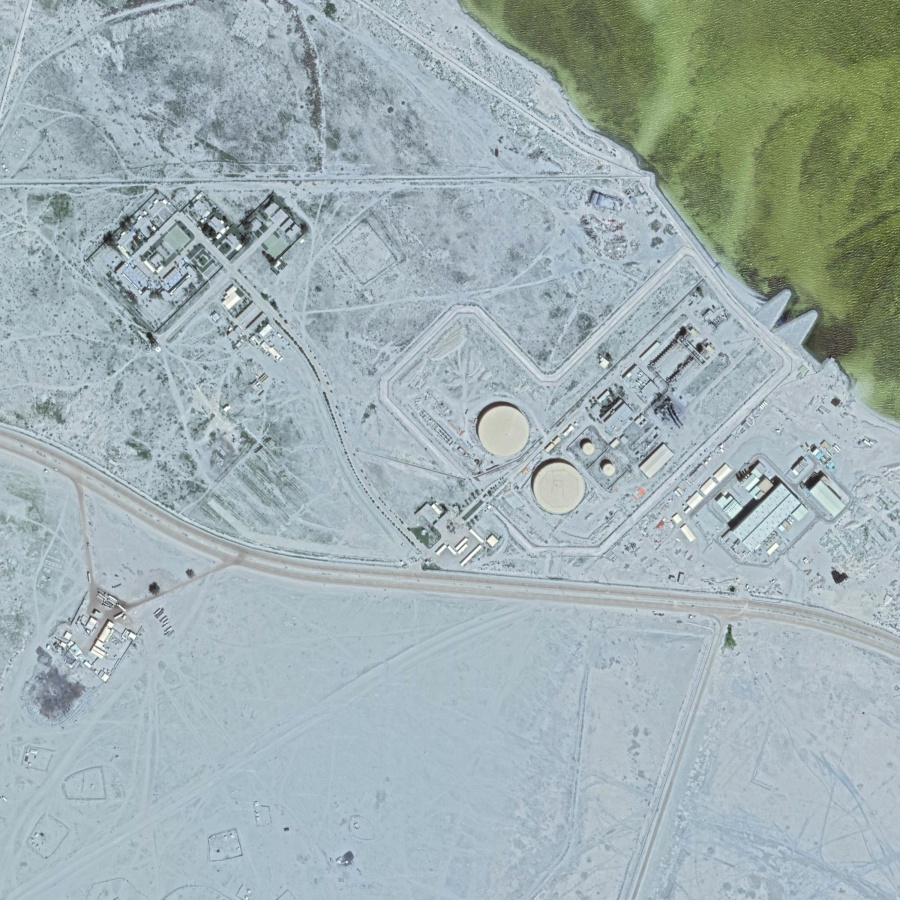PowerPlant: (455, 296, 860, 583)
